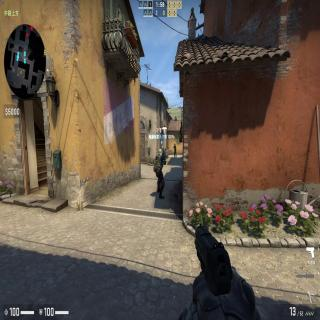T-Body: (173, 143, 177, 157)
